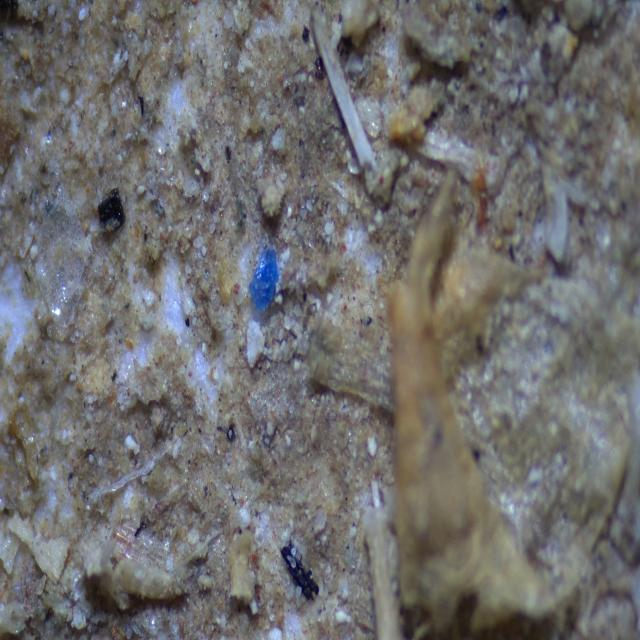microplastic: (243, 230, 287, 311)
